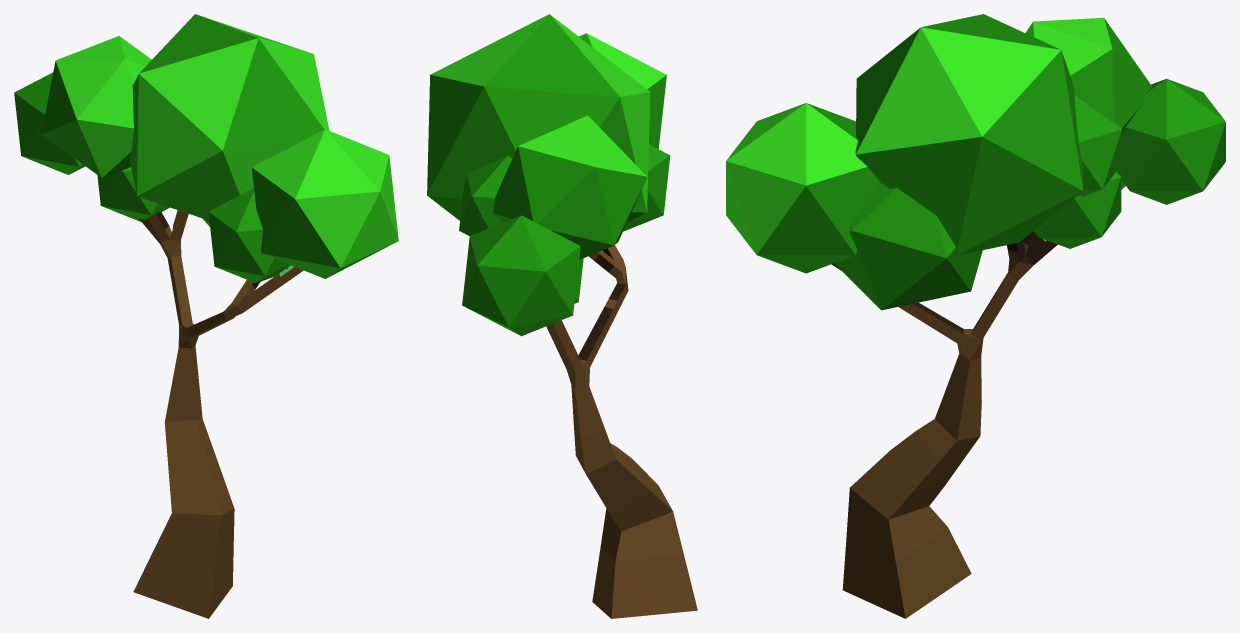
The model's file is treee2.fbx.
3 views of the same model, side by side, from view 1: azimuth 30°, elevation 25°; view 2: azimuth 150°, elevation 25°; view 3: azimuth 270°, elevation 25° (orthographic). The views are drawn at different scales.
Visible parts, largest first — view 1: Icosphere.001; view 2: Icosphere.001; view 3: Icosphere.001.
Boxes of the visible parts, box(x1,y1,x2,y2) form: Icosphere.001: box(14, 14, 398, 618); Icosphere.001: box(427, 14, 697, 618); Icosphere.001: box(726, 14, 1225, 618).
Bounding box in the file's own units: 308 × 714 × 531.
Materials: 9 (9 with a texture image).
